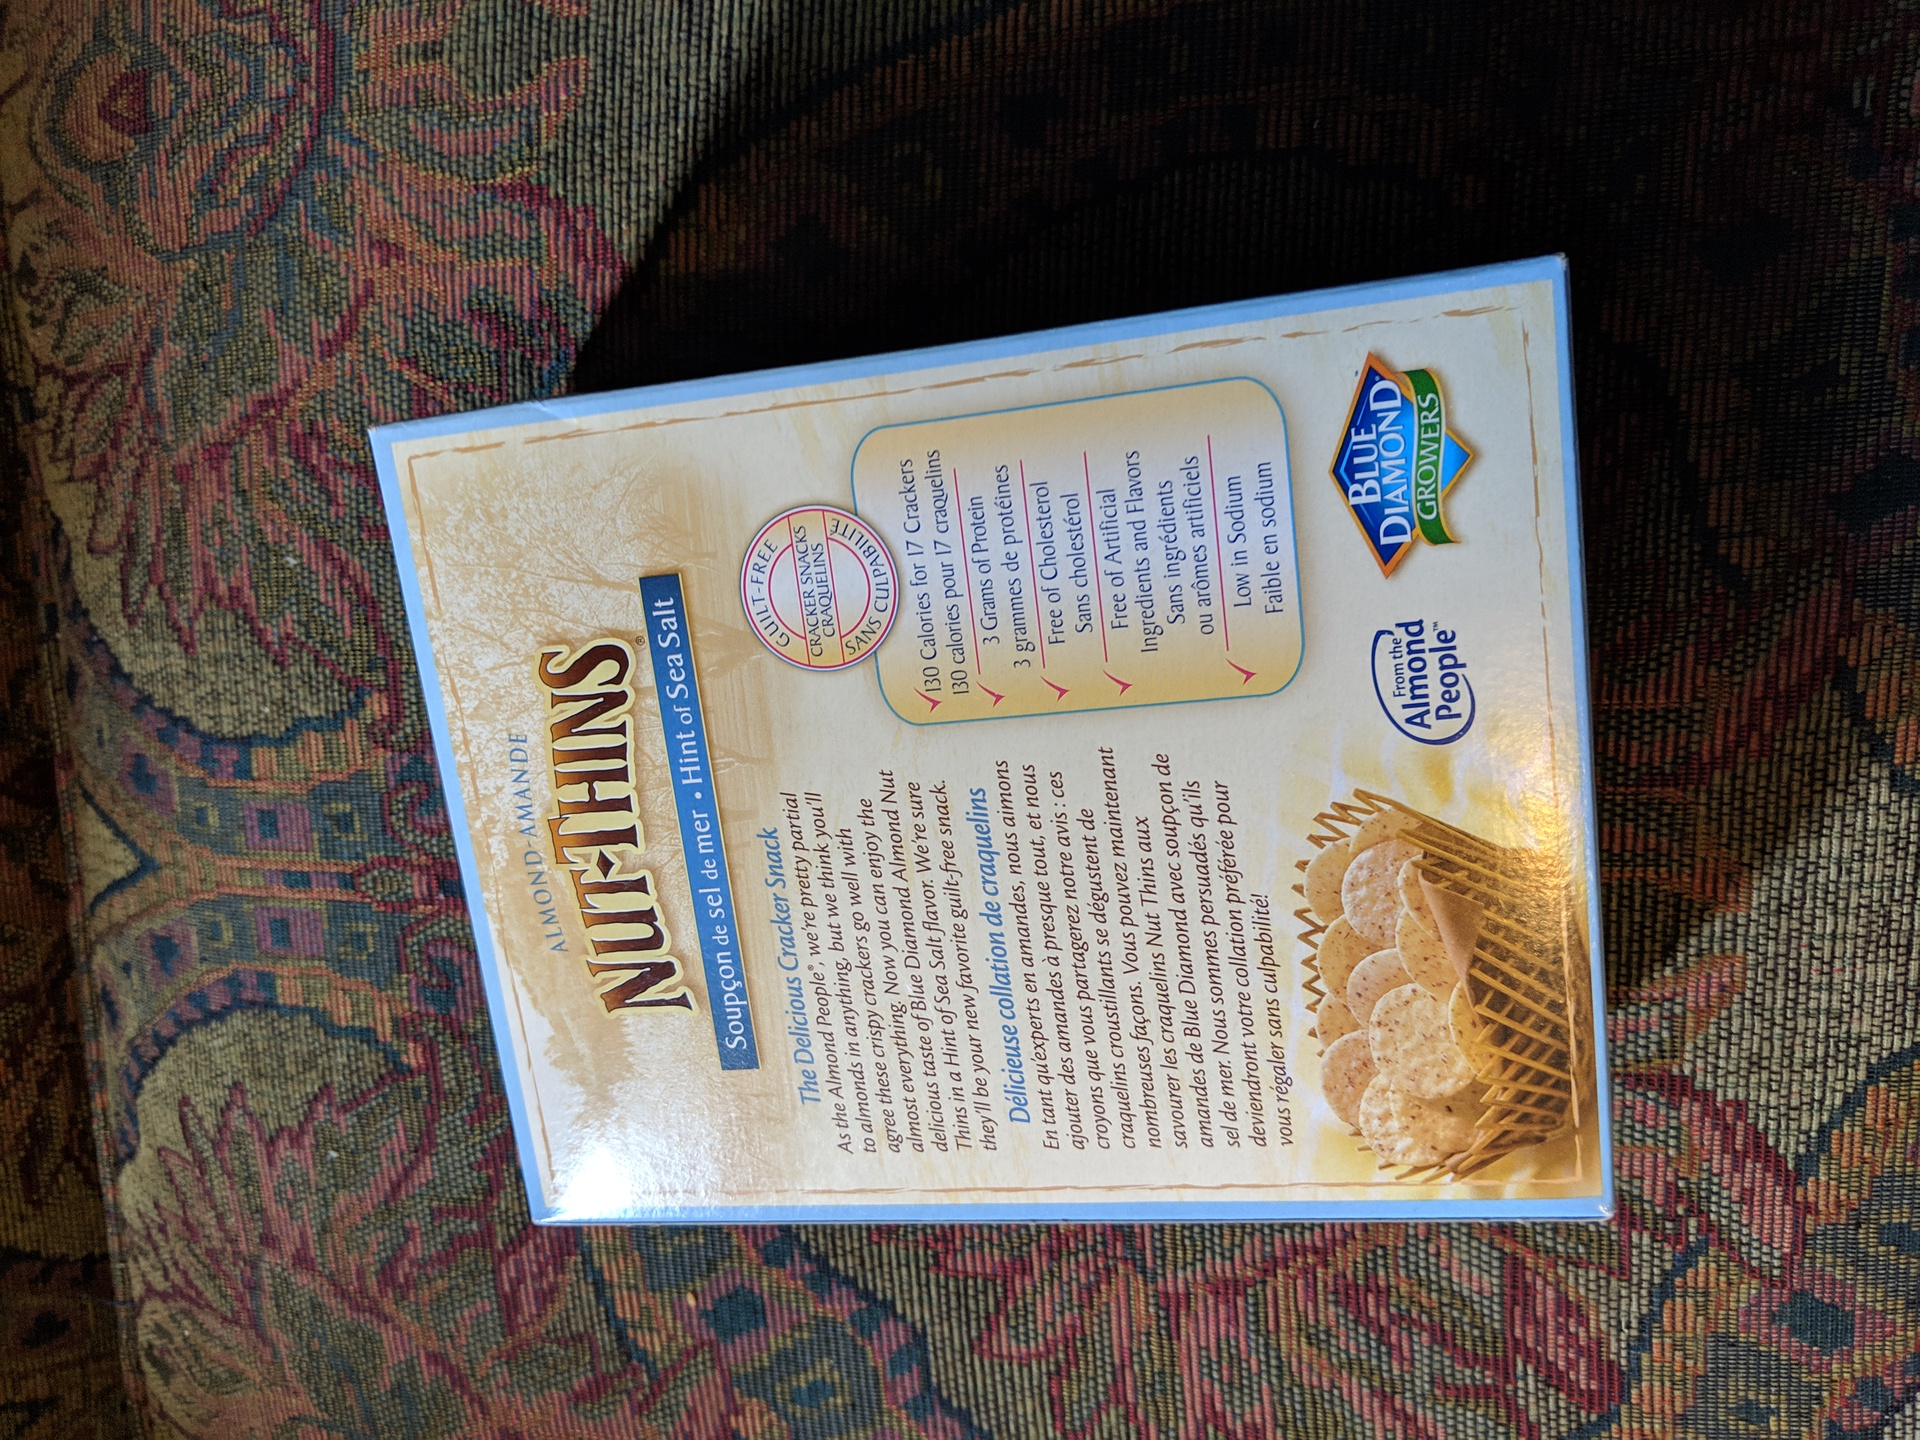blue_diamond_nut_thins_almond_seasalt: (404, 355, 1621, 1227)
